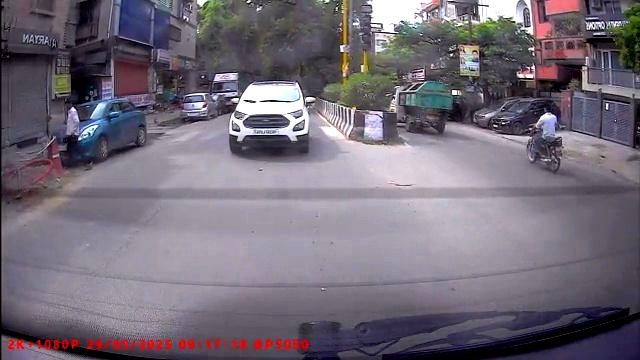motorcycle_without_helmet: (525, 105, 564, 174)
